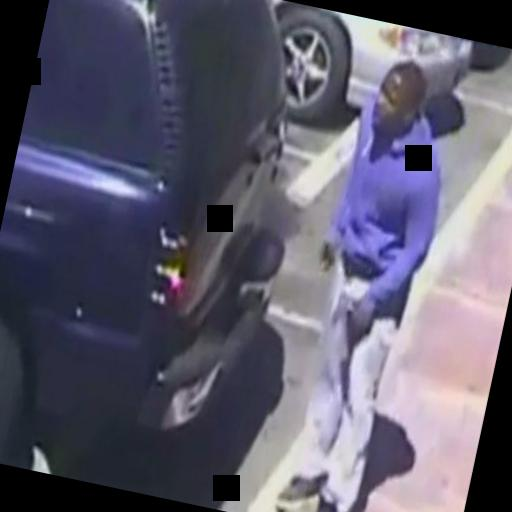Handgun: (313, 232, 339, 278)
